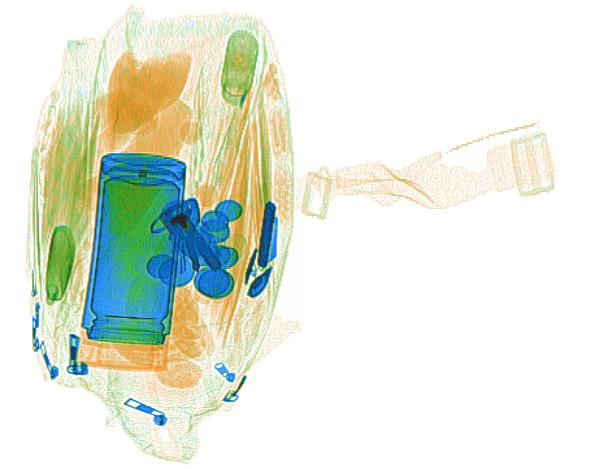knife: (255, 199, 278, 272)
